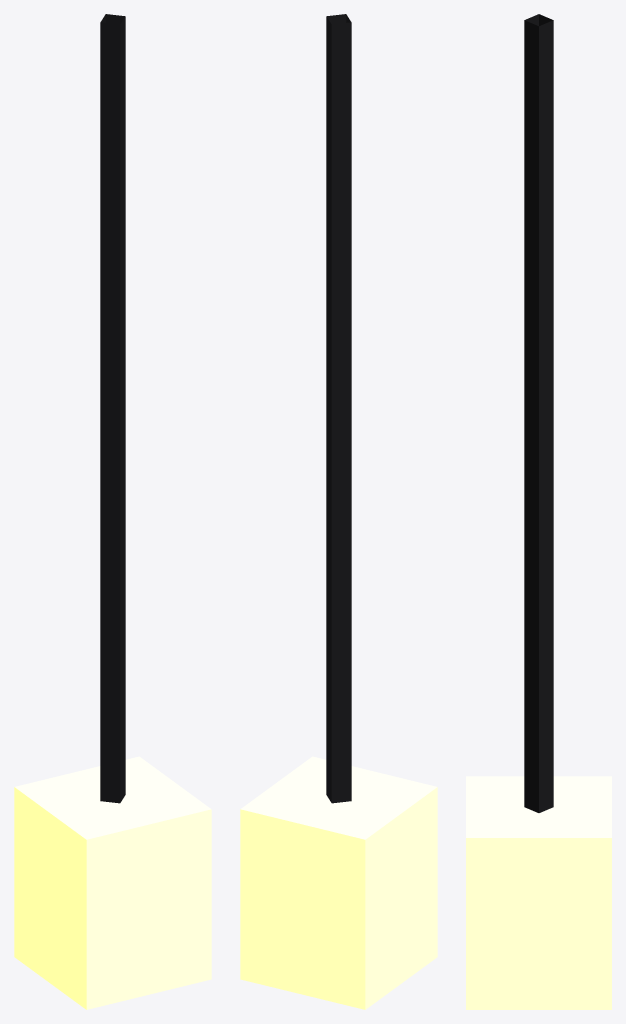
Rendered from bulb.glb.
The picture shows the model from 3 angles, left to right: view 1: azimuth 30°, elevation 25°; view 2: azimuth 150°, elevation 25°; view 3: azimuth 270°, elevation 25°; orthographic projection.
Parts seen in each view (by area): view 1: bulb_1, bulb_0; view 2: bulb_1, bulb_0; view 3: bulb_1, bulb_0.
Boxes of the visible parts, bbox=[...] form: bulb_1: bbox=[14, 756, 211, 1009]; bulb_0: bbox=[100, 14, 125, 803]; bulb_1: bbox=[240, 756, 437, 1009]; bulb_0: bbox=[326, 14, 351, 803]; bulb_1: bbox=[466, 776, 611, 1009]; bulb_0: bbox=[524, 14, 553, 812].
Bounding box in the file's own units: 0.1 × 0.725 × 0.1.
Materials: 2 (2 with a texture image).
